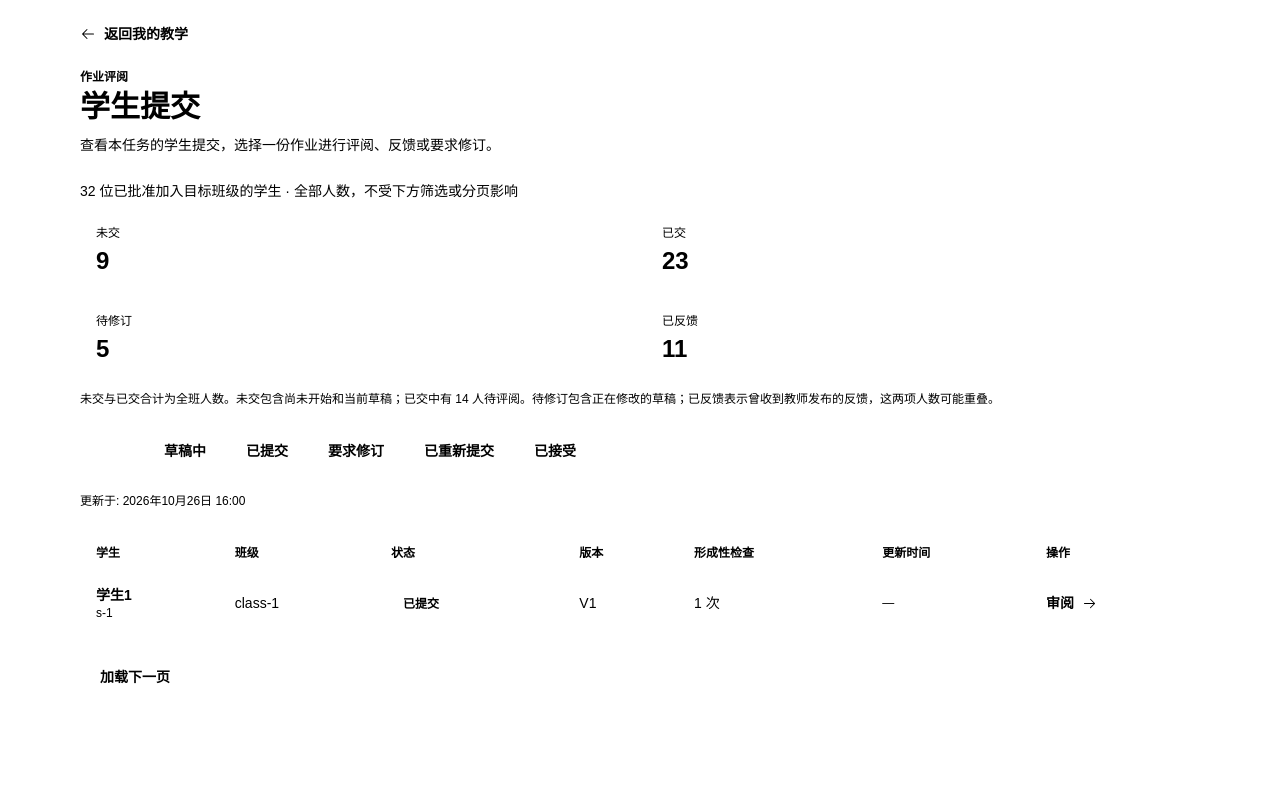
it: TeachingSubmissionQueuePage class counts › uses whole-activity server counts through pagination and filtering
Expected: the element named "未交人数" shows "9", [96,247,109,274]
Expected: the element named "已交人数" shows "23", [662,247,689,274]
Click the button "加载下一页": (135, 677) [80,657,190,697]
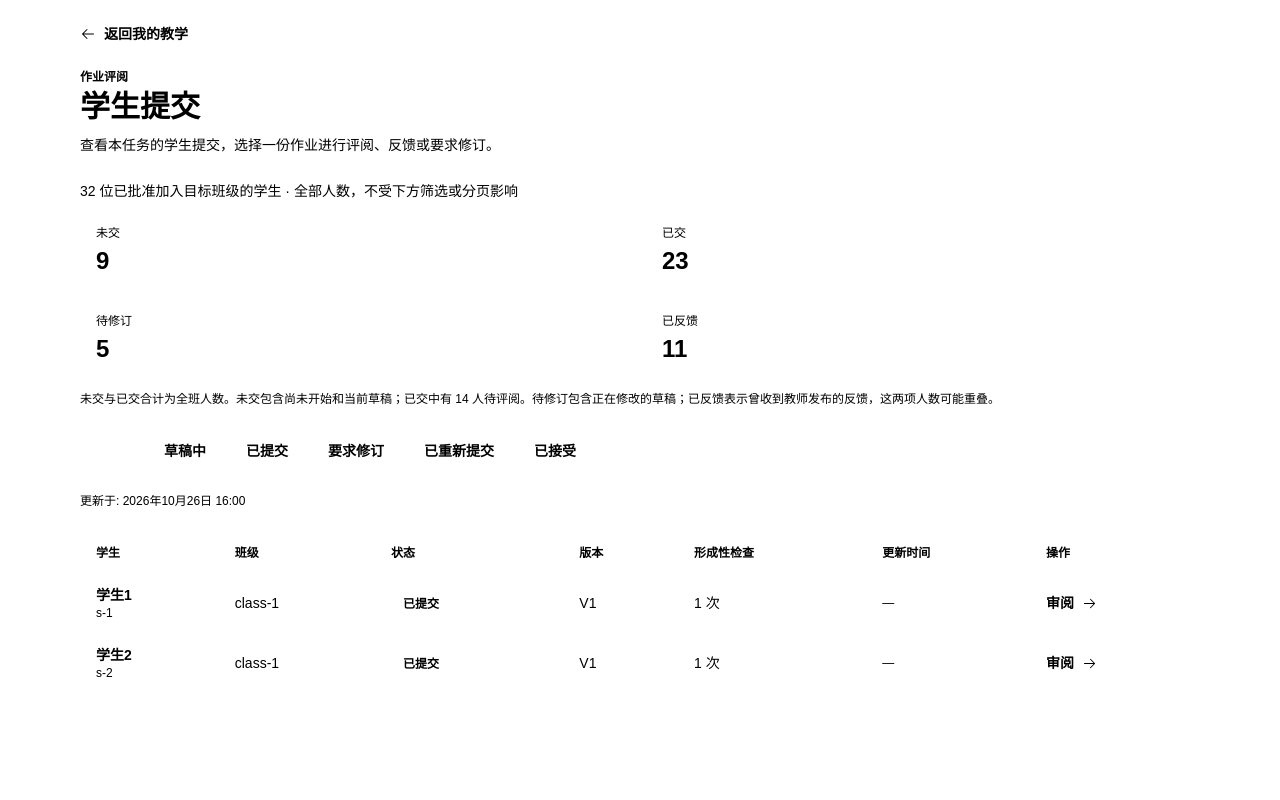
Expected: the element named "已交人数" shows "23", [662,247,689,274]
Result: the text "学生2" is shown at [96,647,132,663]
Click the button "已提交": (267, 451) [230,433,304,469]
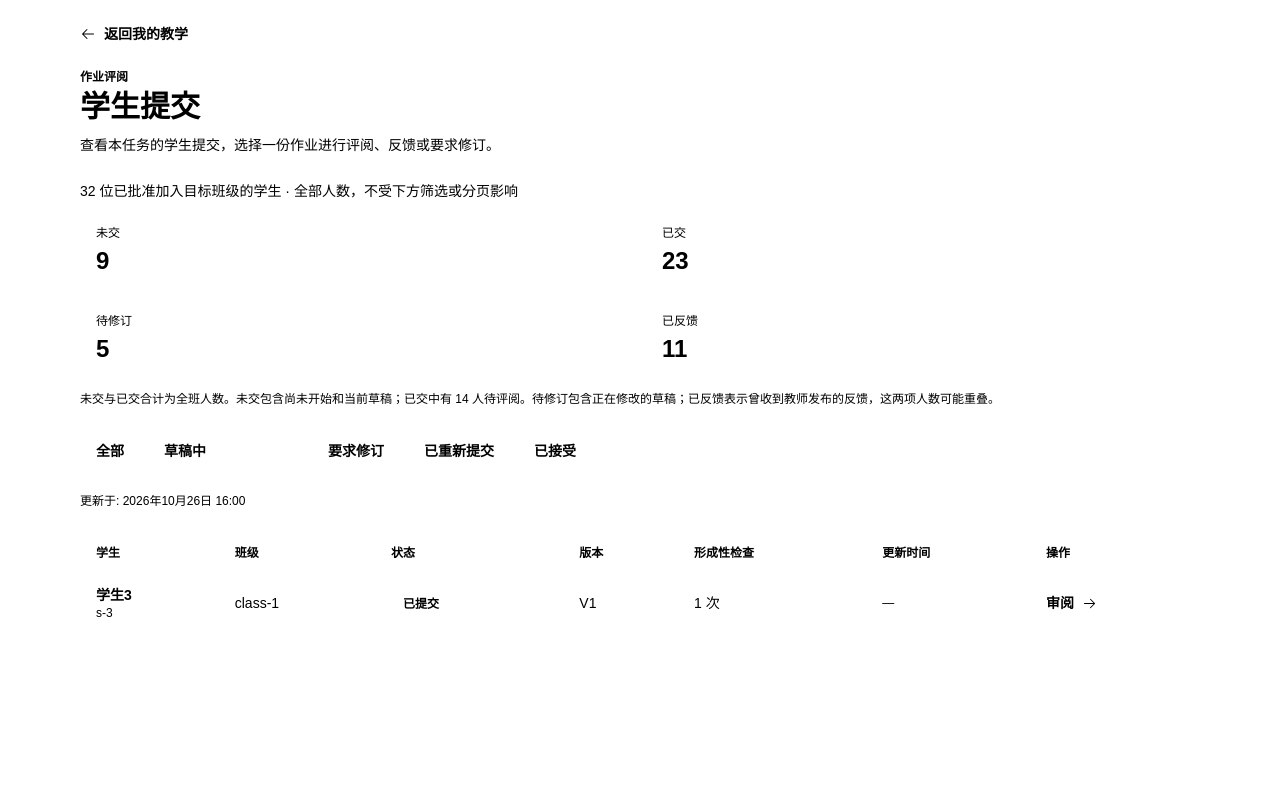
Expected: the element named "未交人数" shows "9", [96,247,109,274]
Result: the text "学生3" is shown at [96,587,132,603]
